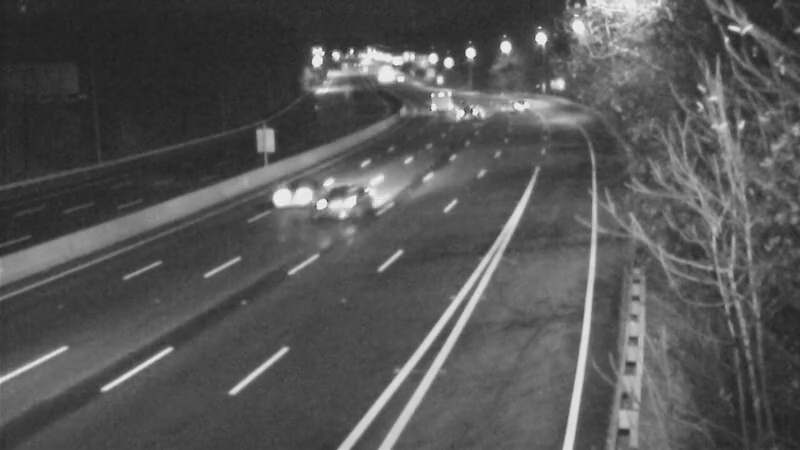vehicle: (298, 159, 378, 239), (249, 156, 329, 236), (490, 73, 540, 123), (410, 70, 460, 120), (443, 84, 493, 134)
